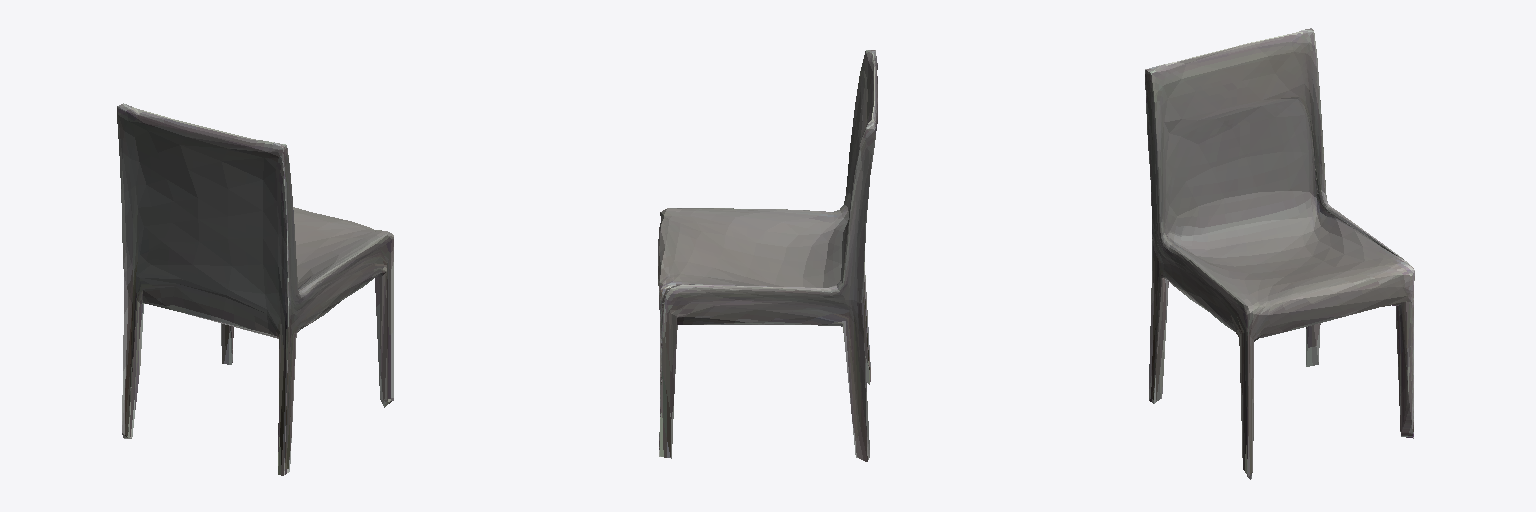
3 views of the same model, side by side, from view 1: azimuth 30°, elevation 25°; view 2: azimuth 150°, elevation 25°; view 3: azimuth 270°, elevation 25° (orthographic).
Bounding box in the file's own units: 0.7594 × 1 × 0.7232.
1 materials, 1 textured.